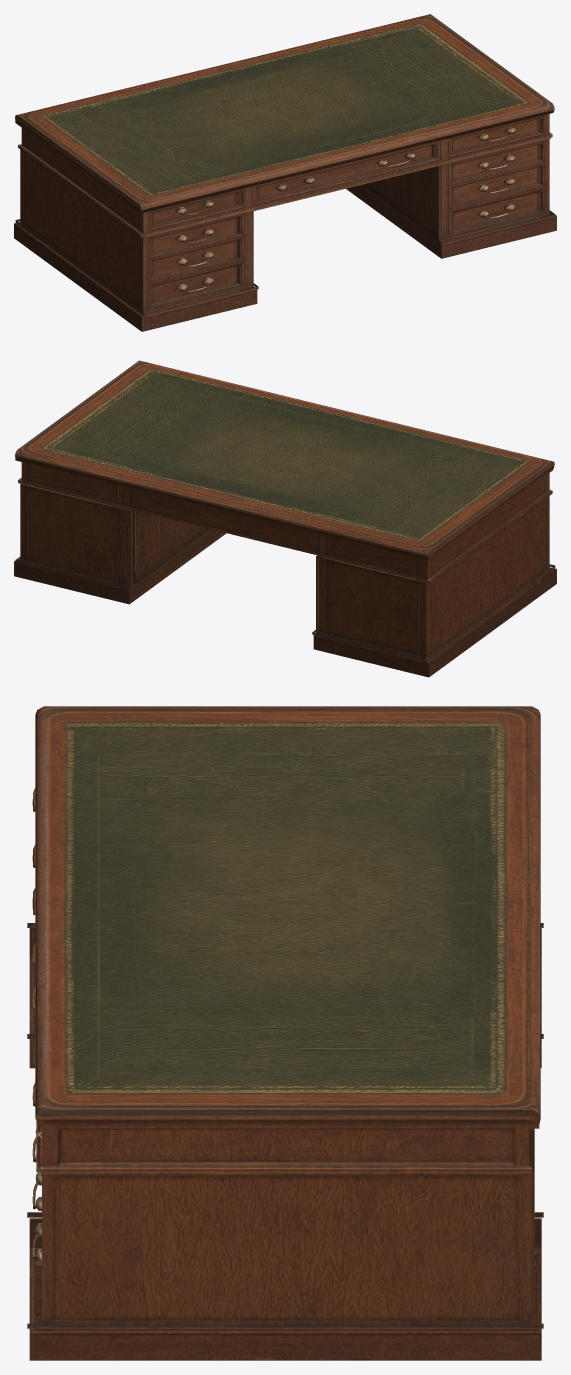
The model's file is MainScreen_Desk.fbx.
The picture shows the model from 3 angles, top to bottom: view 1: azimuth 30°, elevation 25°; view 2: azimuth 150°, elevation 25°; view 3: azimuth 270°, elevation 25°; orthographic projection. The views are drawn at different scales.
Parts seen in each view (by area): view 1: MainScreen_Desk_Low; view 2: MainScreen_Desk_Low; view 3: MainScreen_Desk_Low.
Part boxes in pixels (left/top/right/bottom): MainScreen_Desk_Low: left=14, top=14, right=556, bottom=331; MainScreen_Desk_Low: left=14, top=360, right=556, bottom=677; MainScreen_Desk_Low: left=27, top=706, right=543, bottom=1360.
Size of the model in its own units: 5.99 by 1.72 by 3.23.
